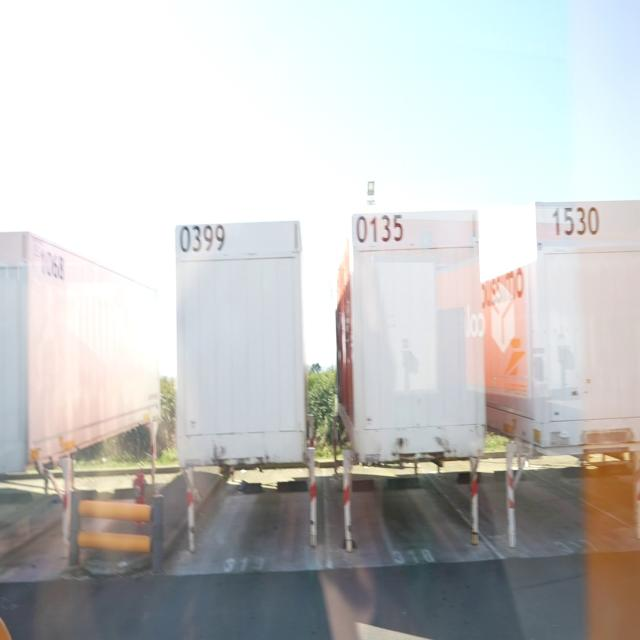Code: (549, 198, 603, 248), (177, 214, 228, 260), (353, 208, 407, 251)
